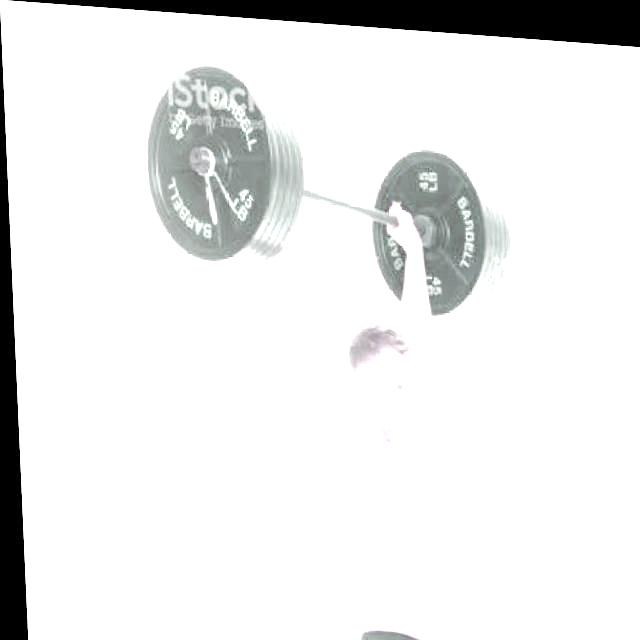barbell: (136, 55, 280, 272)
